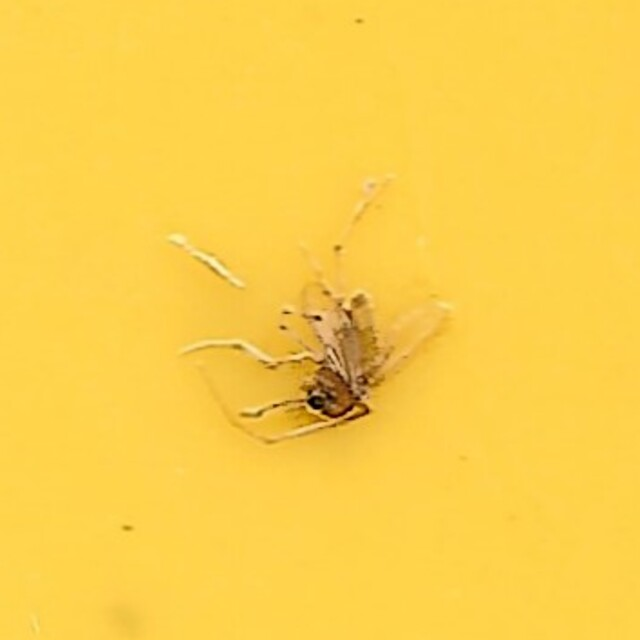Nematocera: (181, 177, 459, 463)
